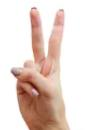front: (9, 5, 71, 129)
